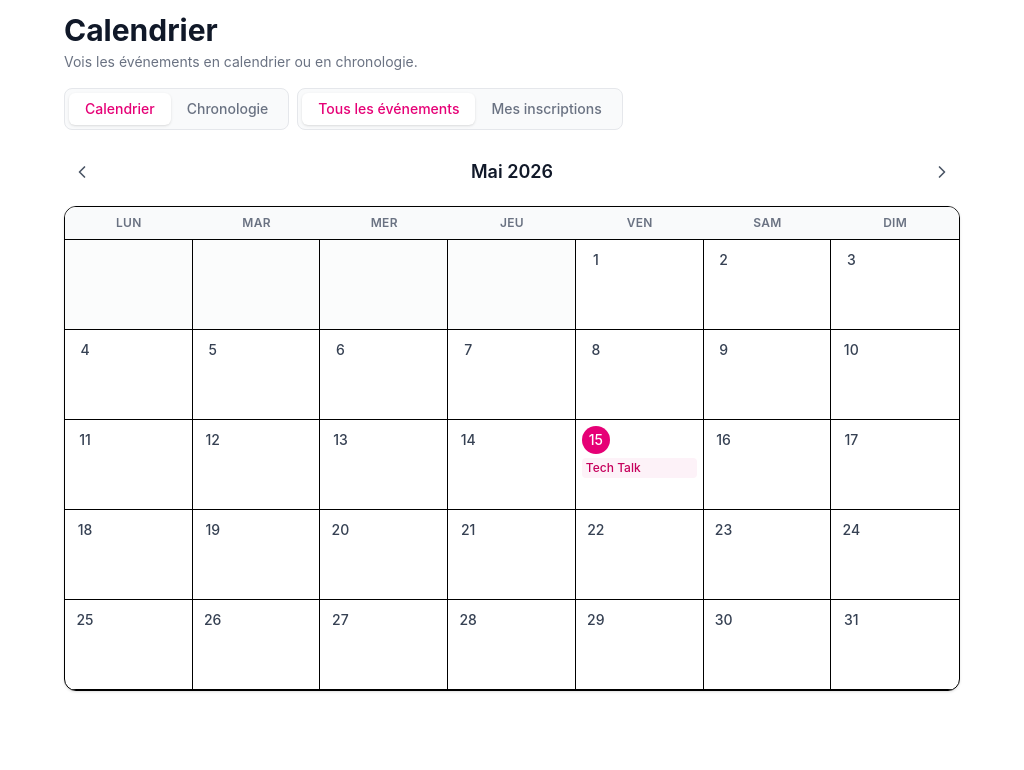
Test: CalendarPage › resets the selected day when navigating months
Expected: the text "Tech Talk" is shown, [582,458,696,478]
Click the button "15 Tech Talk".
click(640, 465)  # box [576,420,704,510]
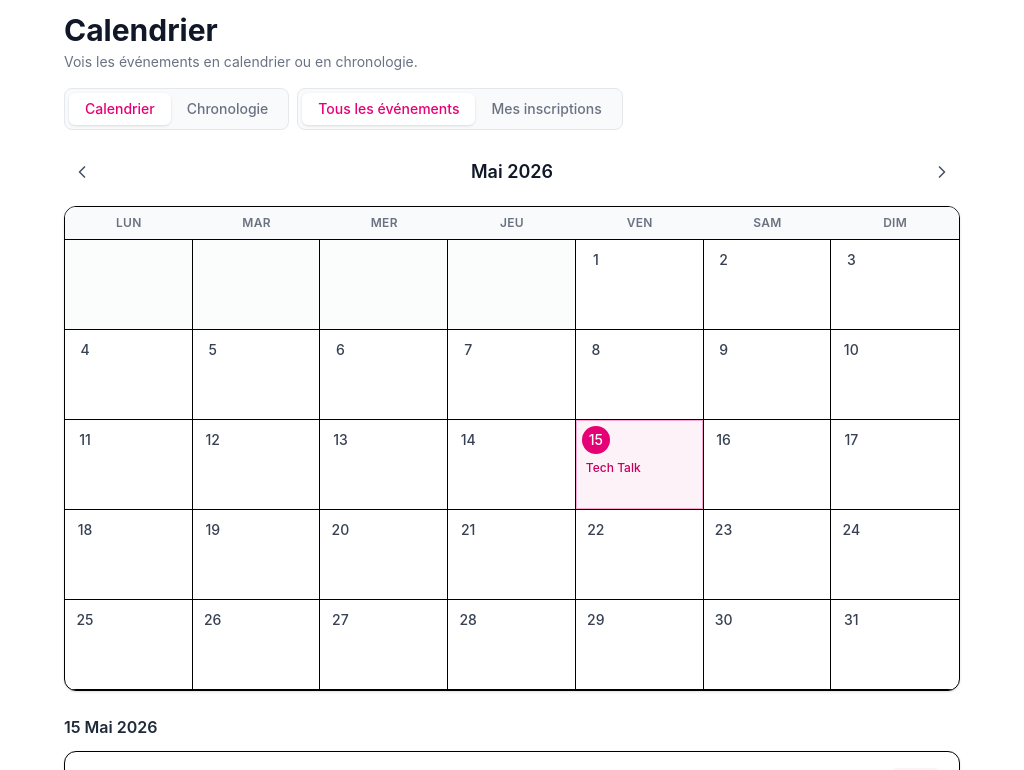
Expected: the heading "15 Mai 2026" is shown, [64,717,158,737]
Click the button named "Mois suivant".
click(942, 172)  # box [924,154,960,190]
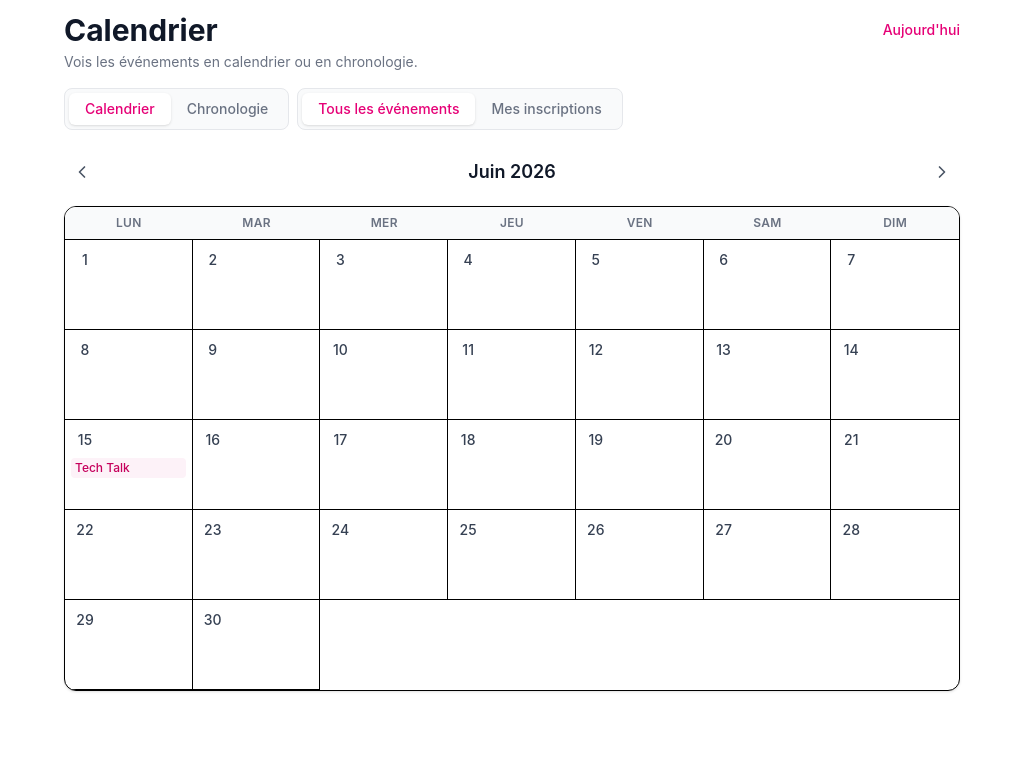
Expected: the heading "15 Mai 2026" is gone
